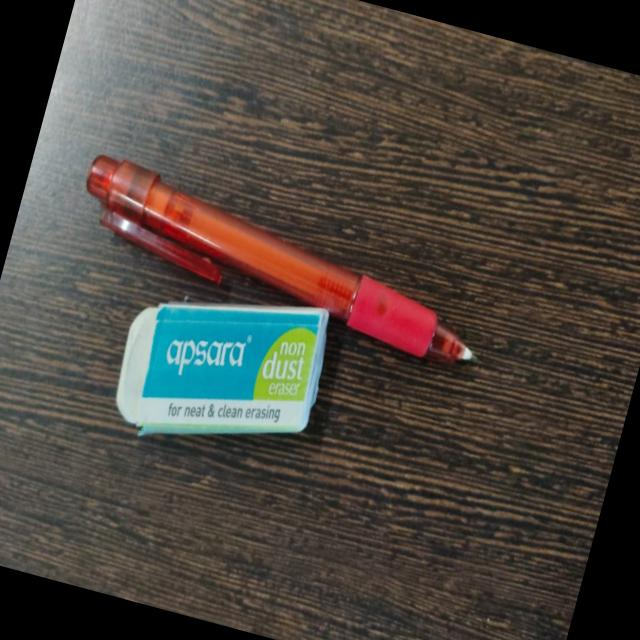Others: (82, 146, 473, 356), (115, 299, 334, 428)
